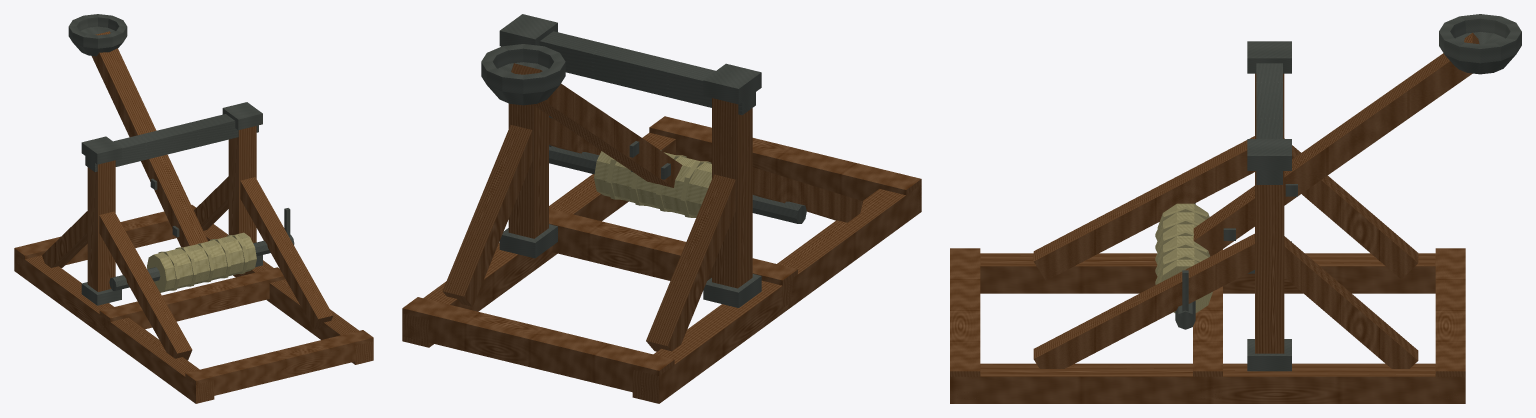
The model's file is catapult.glb.
The picture shows the model from 3 angles, left to right: view 1: azimuth 30°, elevation 25°; view 2: azimuth 150°, elevation 25°; view 3: azimuth 270°, elevation 25°; orthographic projection. The views are drawn at different scales.
Parts seen in each view (by area): view 1: turntable, frame, arm; view 2: turntable, frame, arm; view 3: frame, turntable, arm.
Boxes of the visible parts, x1,y1,x2,y2 form: turntable: (42,102,333,360); frame: (14,204,373,403); arm: (68,14,207,247); turntable: (442,14,863,351); frame: (402,116,921,403); arm: (481,44,682,187); frame: (950,248,1465,403); turntable: (1033,41,1418,371); arm: (1193,14,1521,256).
Bounding box in the file's own units: 2.6 × 3.06 × 5.1.
Materials: 1 (1 with a texture image).
